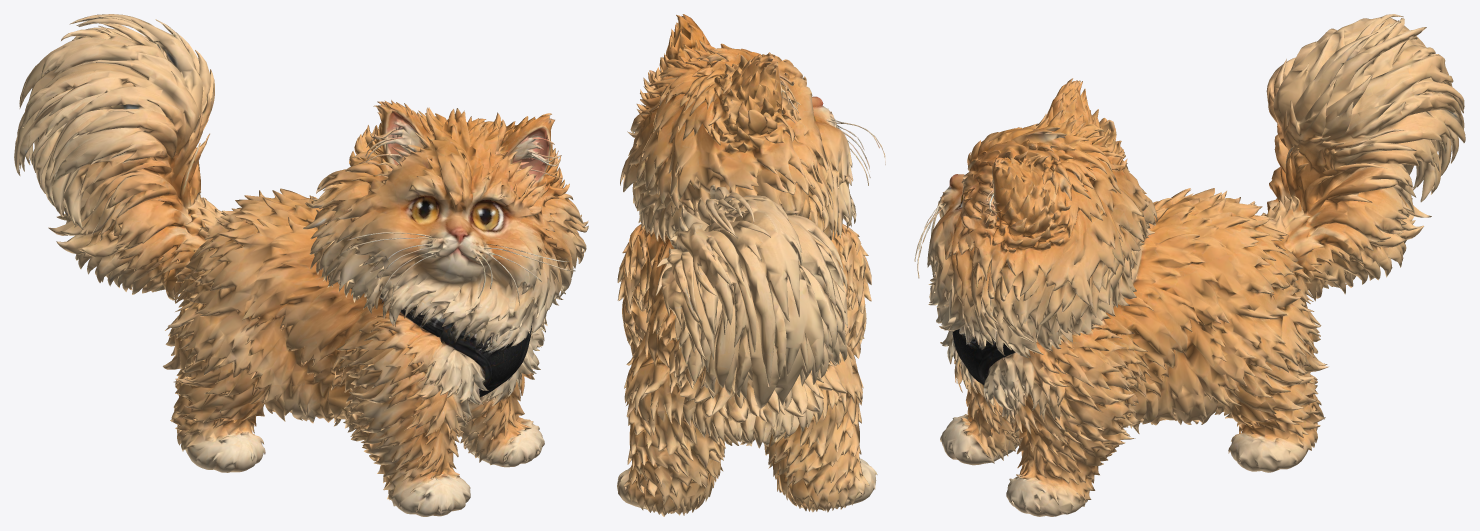
The model's file is whispurr-twin-storybook-v2.glb.
3 views of the same model, side by side, from view 1: azimuth 30°, elevation 25°; view 2: azimuth 150°, elevation 25°; view 3: azimuth 270°, elevation 25° (orthographic).
Bounding box in the file's own units: 1.54 × 1.43 × 1.9.
1 material, 1 textured.
